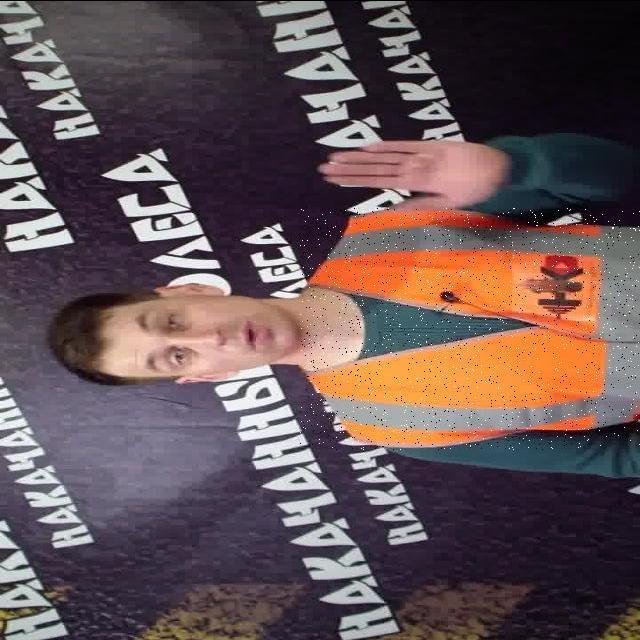vest: (300, 207, 640, 449)
